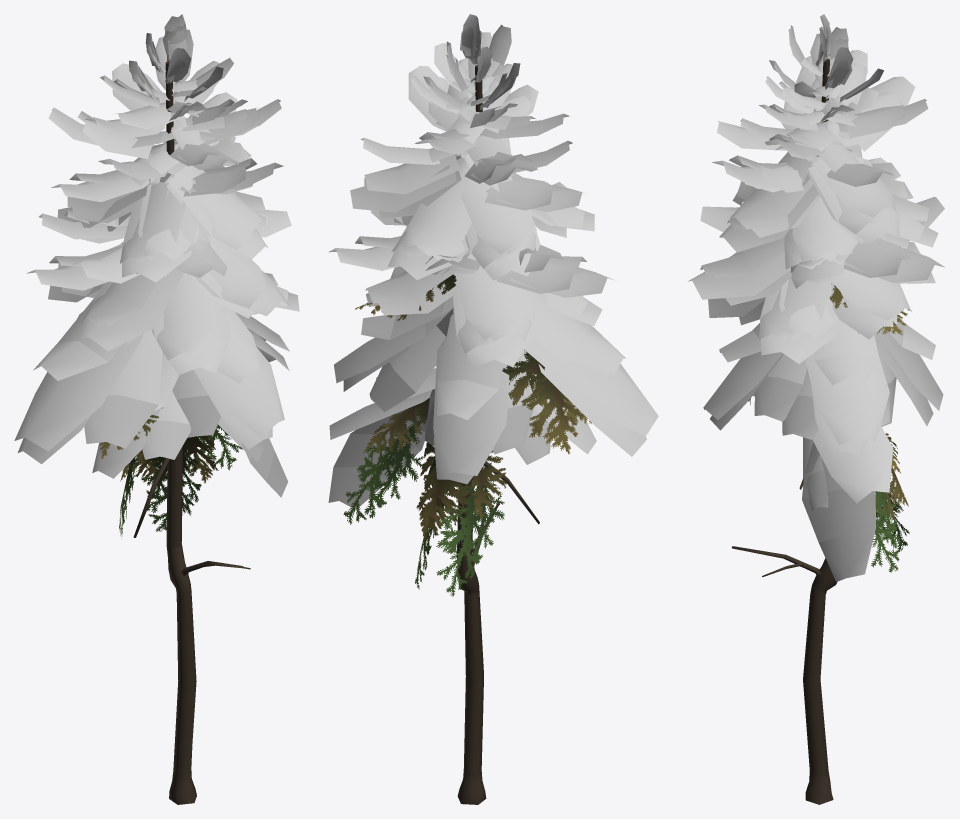
File: LODFir_Grön.L.A.X.fbx
The picture shows the model from 3 angles, left to right: view 1: azimuth 30°, elevation 25°; view 2: azimuth 150°, elevation 25°; view 3: azimuth 270°, elevation 25°; orthographic projection.
Parts seen in each view (by area): view 1: Fir_Grön_L_A_X3; view 2: Fir_Grön_L_A_X3; view 3: Fir_Grön_L_A_X3.
Boxes of the visible parts, x1,y1,x2,y2 form: Fir_Grön_L_A_X3: (14, 14, 299, 804); Fir_Grön_L_A_X3: (328, 14, 658, 804); Fir_Grön_L_A_X3: (688, 14, 945, 804).
Bounding box in the file's own units: 610 × 1565 × 470.
